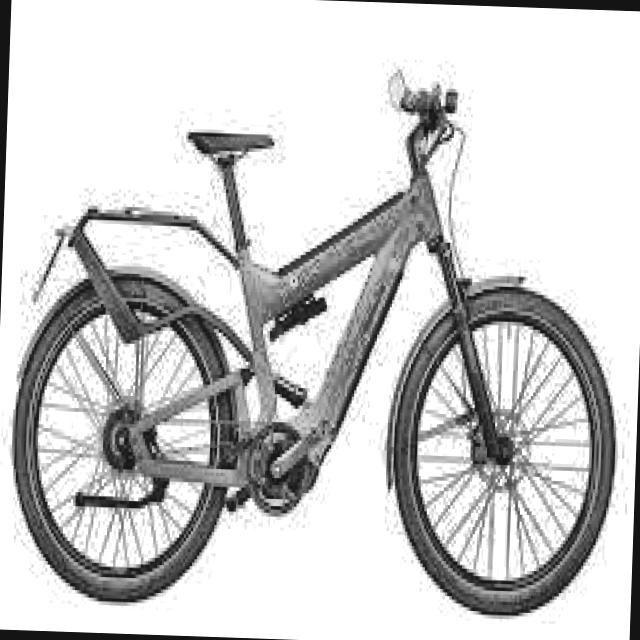bicycle: (5, 63, 629, 620)
